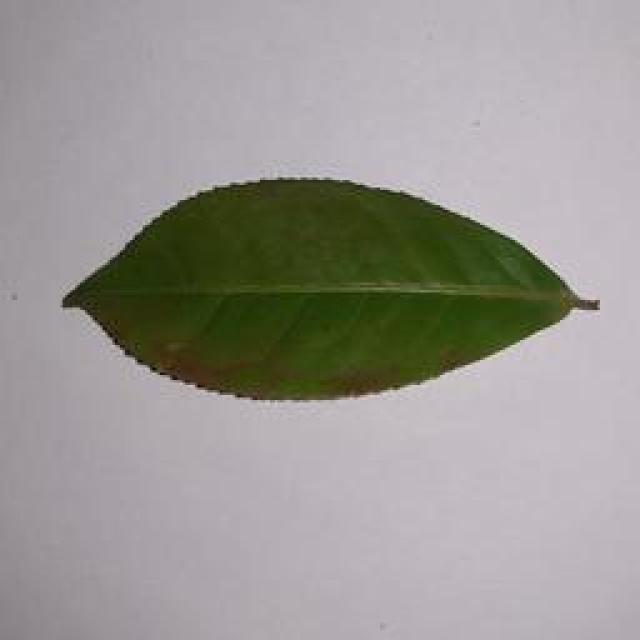Red Leaf Spot: (49, 168, 615, 401)
